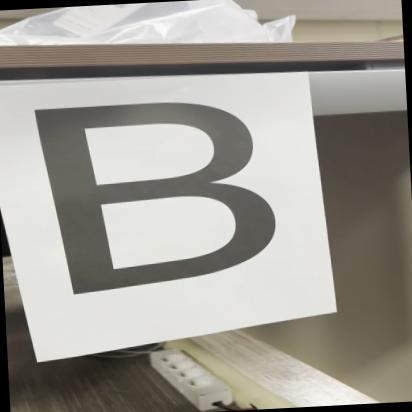seat: (13, 87, 285, 308)
